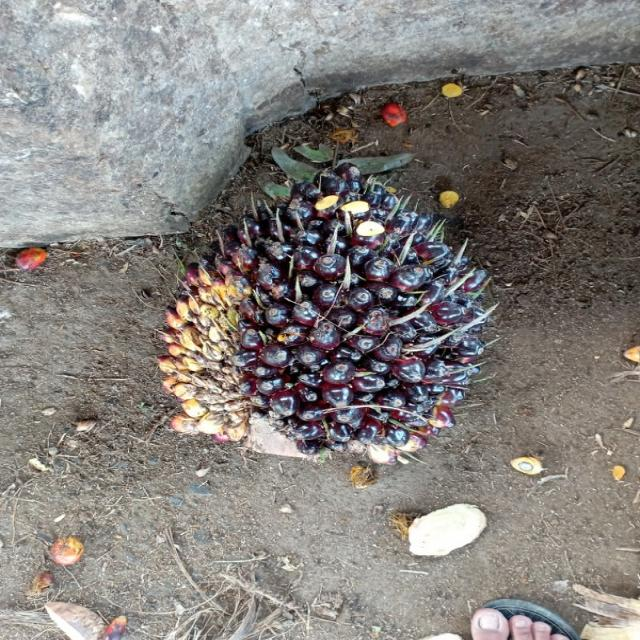fraksi 00: (157, 162, 495, 462)
